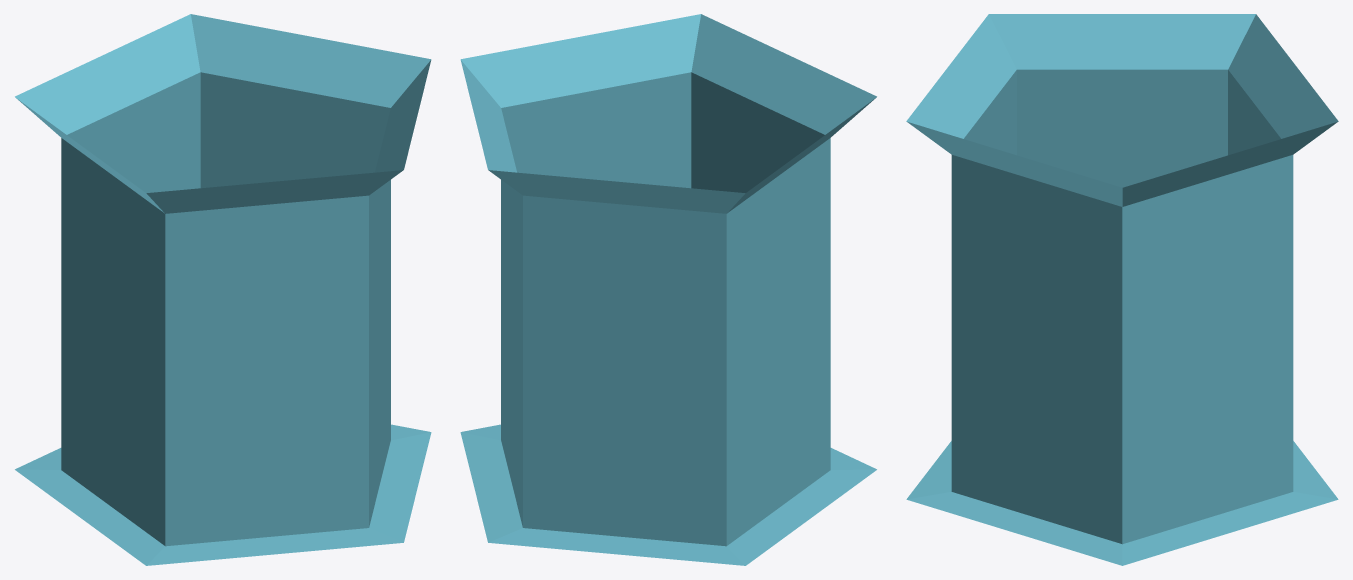
3 views of the same model, side by side, from view 1: azimuth 30°, elevation 25°; view 2: azimuth 150°, elevation 25°; view 3: azimuth 270°, elevation 25° (orthographic).
Parts seen in each view (by area): view 1: xxx; view 2: xxx; view 3: xxx.
Part boxes in pixels (bbox=[...]): xxx: bbox=[15, 14, 431, 565]; xxx: bbox=[460, 14, 876, 565]; xxx: bbox=[906, 14, 1338, 565].
Size of the model in its own units: 0.9858 by 1.04 by 1.
